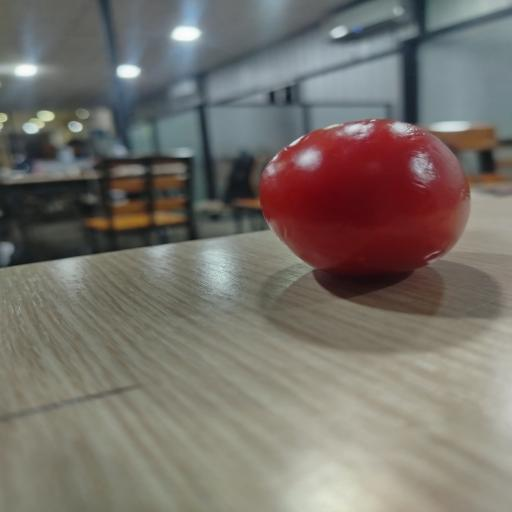spoiled: (260, 119, 470, 276)
